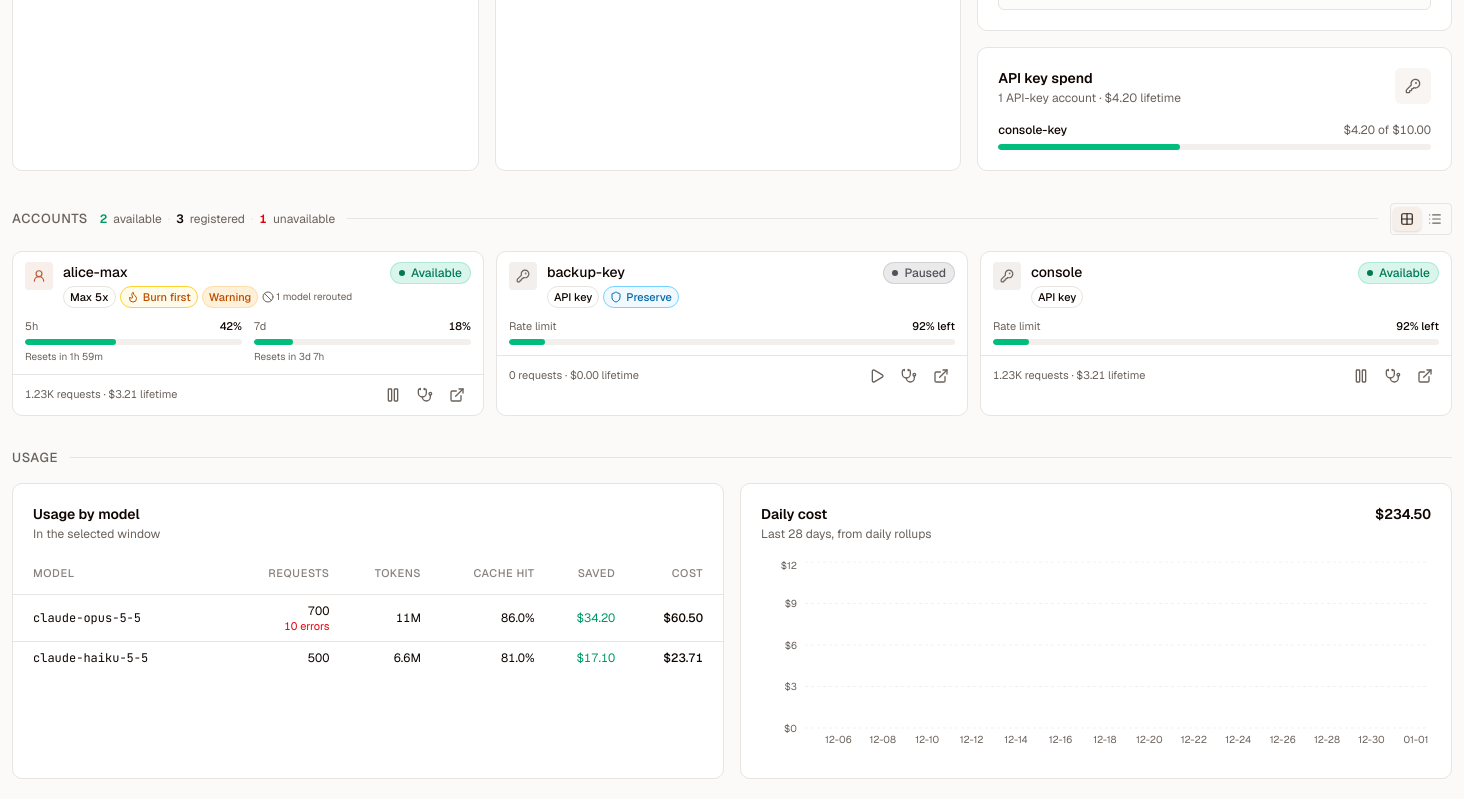
Scenario: DashboardPage › lists accounts as cards or a table and pauses from a quick action
(page scrolled)
Expected: the element with test id "dashboard-account-summary-line" reads "2 available · 3 registered · 1 unavailable", [100, 210, 335, 226]
Expected: the text "alice-max" is shown, [63, 262, 128, 280]
Click the button named "Pause alice-max". click: point(393, 394)
box: [379, 380, 407, 408]
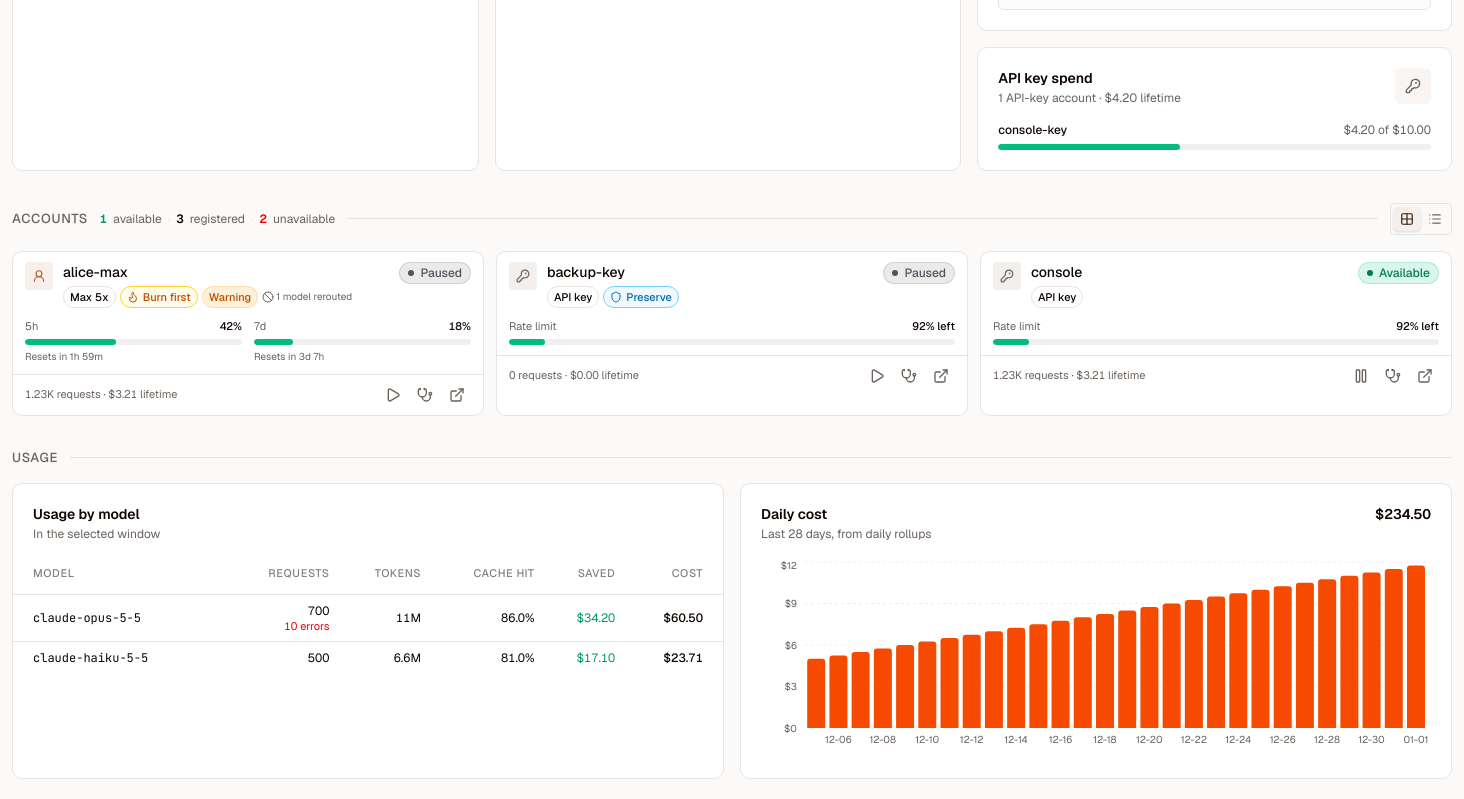
Click the radio button named "View accounts as list". click: point(1435, 218)
box: [1421, 206, 1449, 230]
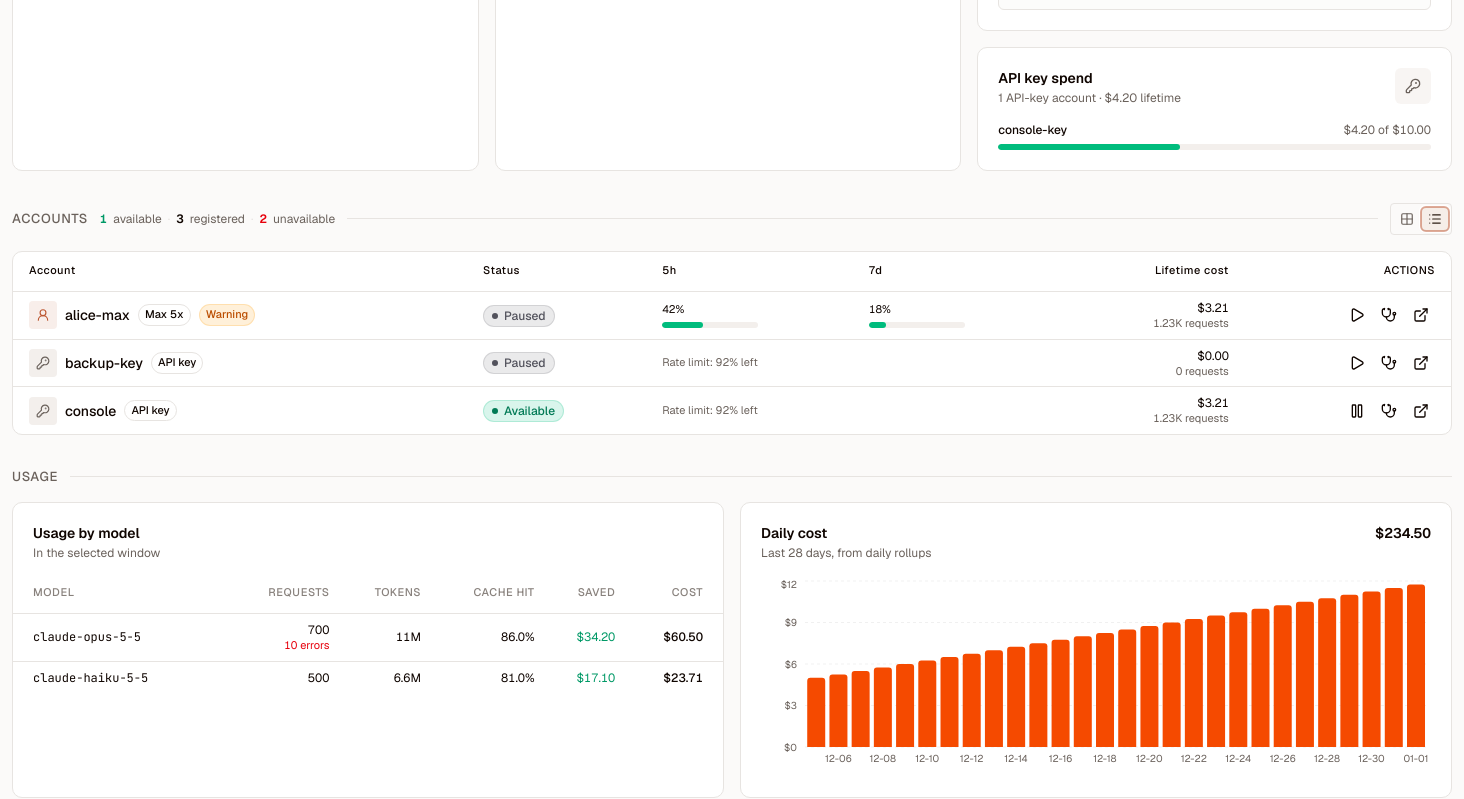
Result: the row with test id "dashboard-account-row-acc_max" is shown at [13, 292, 1451, 339]
